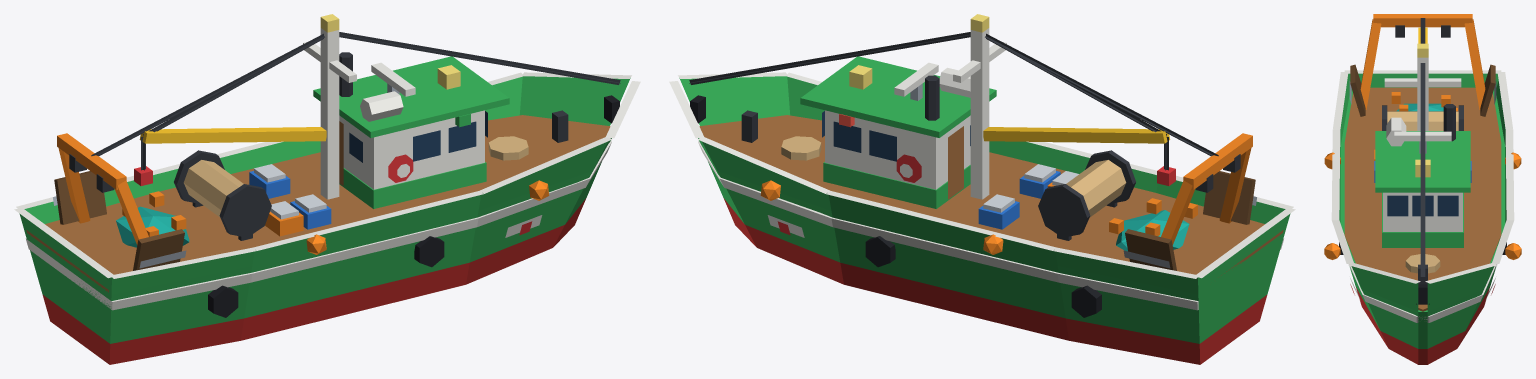
File: fishing_boat.glb
The picture shows the model from 3 angles, left to right: view 1: azimuth 30°, elevation 25°; view 2: azimuth 150°, elevation 25°; view 3: azimuth 270°, elevation 25°; orthographic projection. The views are drawn at different scales.
Visible parts, largest first — view 1: Body; view 2: Body; view 3: Body.
Boxes of the visible parts, box(x1,y1,x2,y2) form: Body: box(14, 14, 640, 364); Body: box(669, 14, 1295, 364); Body: box(1324, 14, 1521, 364).
Size of the model in its own units: 1.45 by 0.636 by 0.5162.
